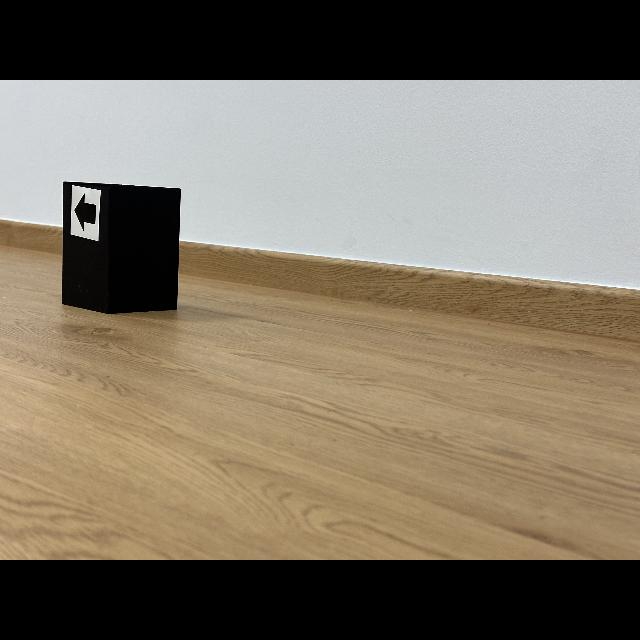LEFT: (74, 194, 96, 230)
